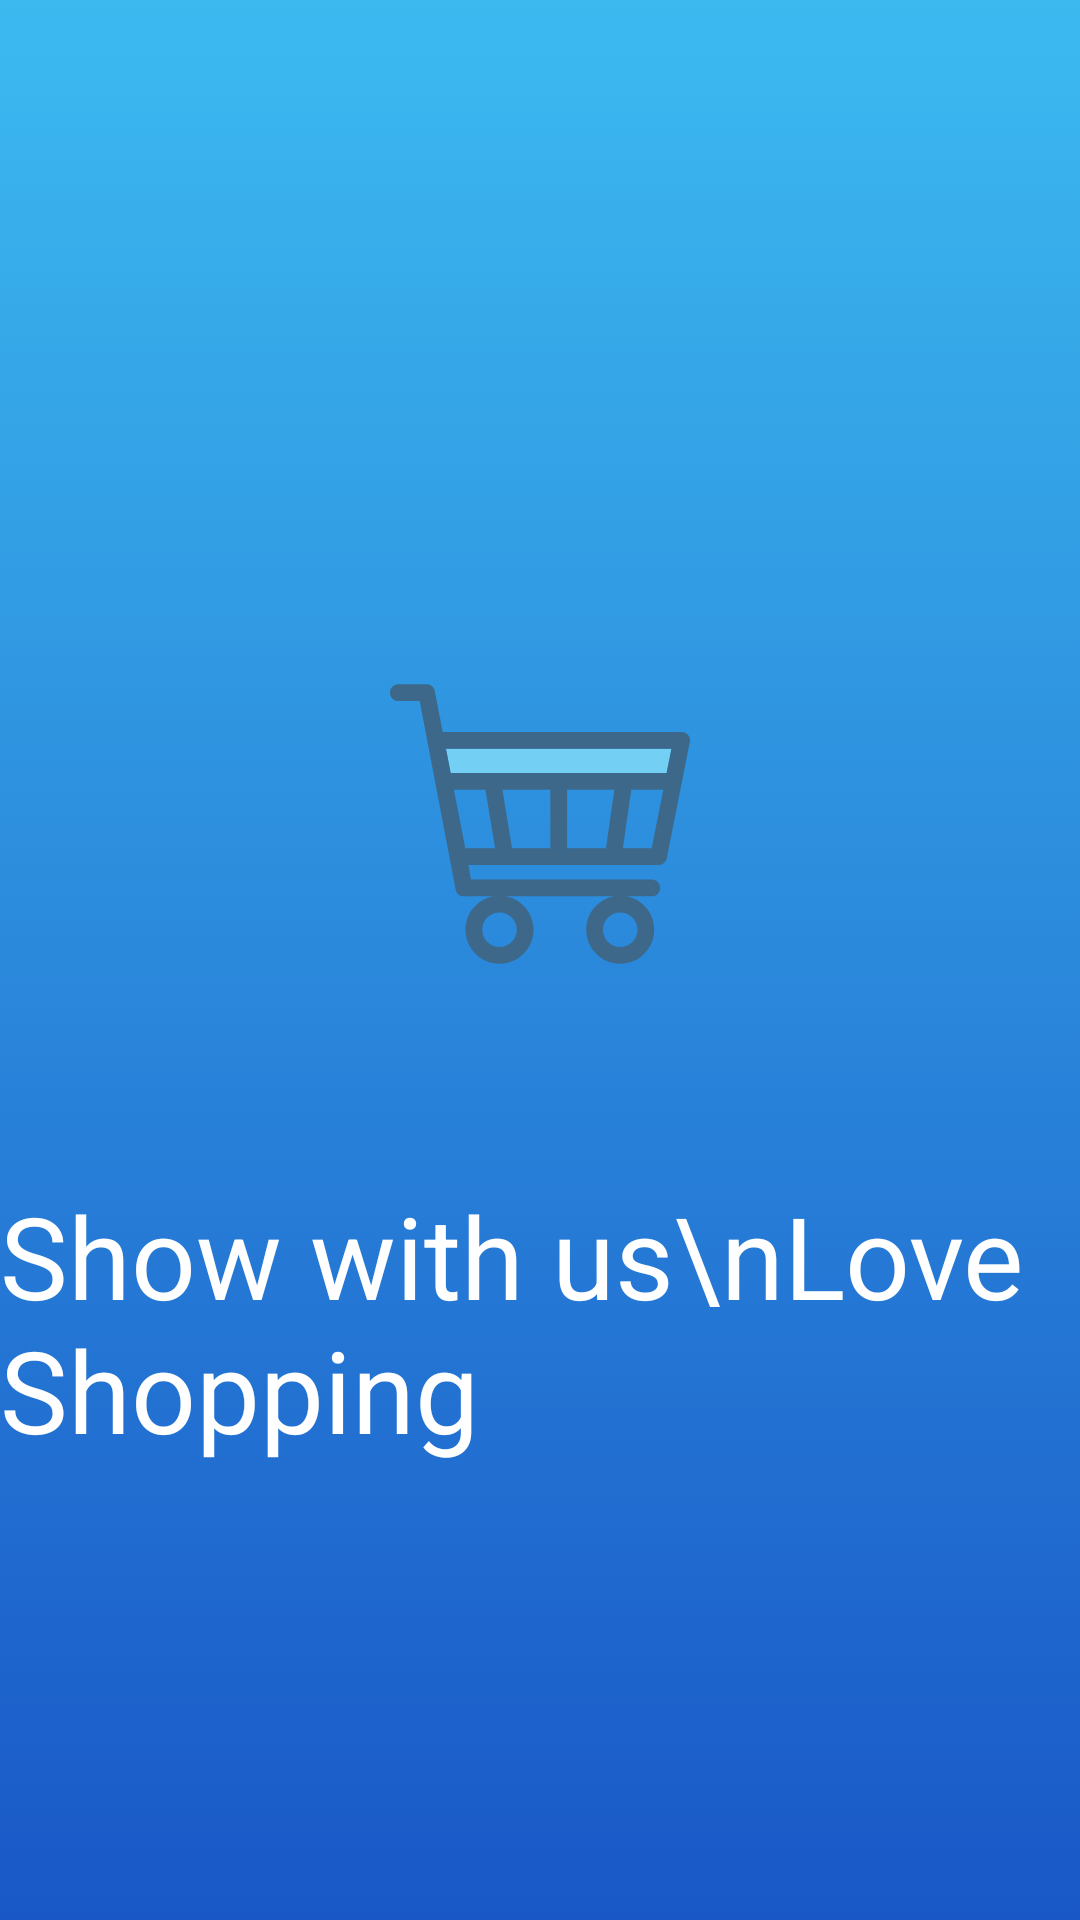

Screen size 1080 x 1920. Icon name, then its center in pixels as [x,y]:
checkout: [540,824]
